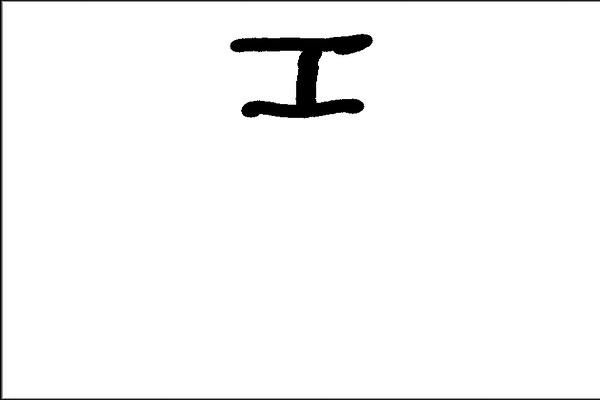i: (223, 18, 381, 129)
